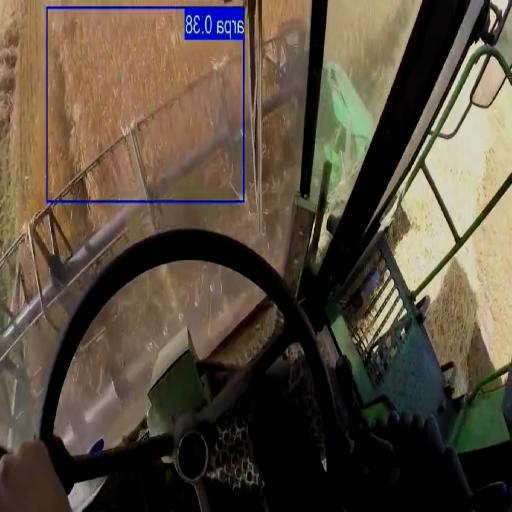arpa: (50, 10, 234, 191), (325, 0, 420, 78), (16, 0, 46, 212), (264, 0, 311, 35)
